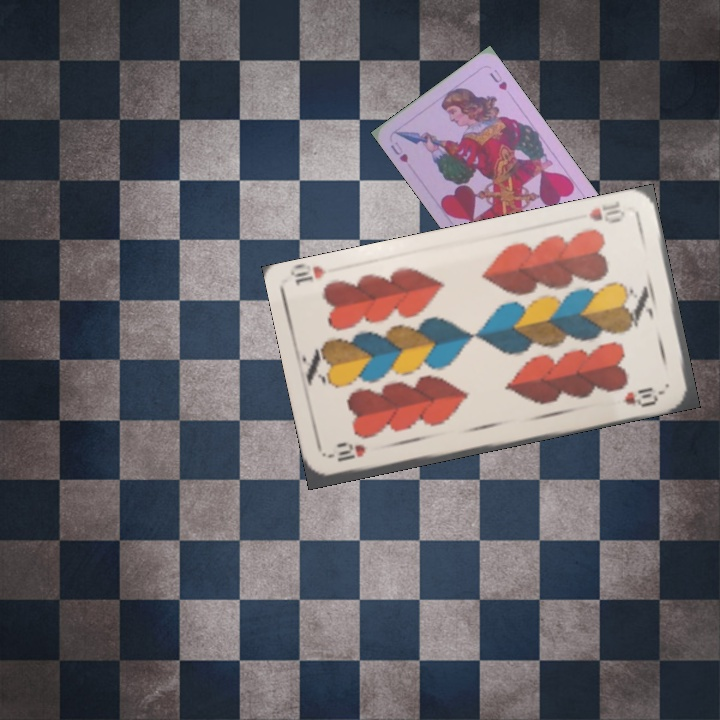H10: (584, 198, 628, 227), (326, 442, 368, 465)
HU: (386, 137, 411, 165)
